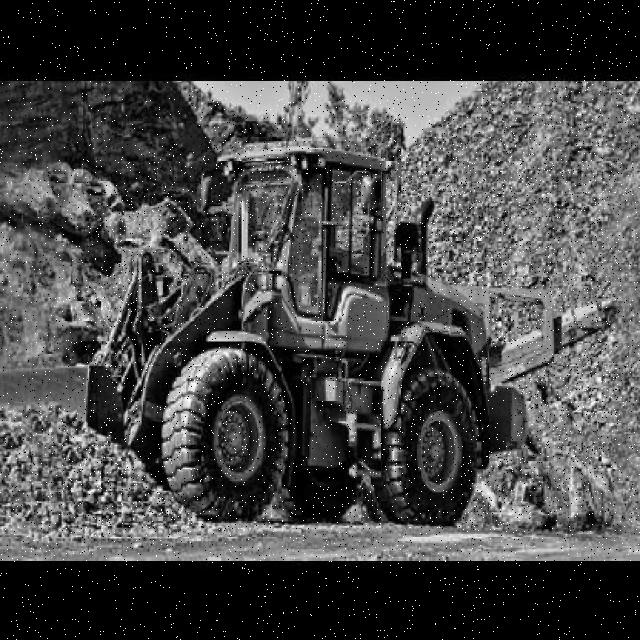Construction Equipment: (85, 144, 622, 529)
